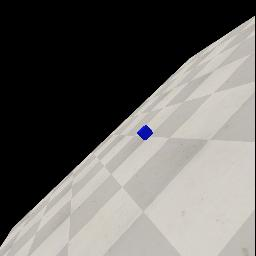box: (137, 125, 153, 140)
